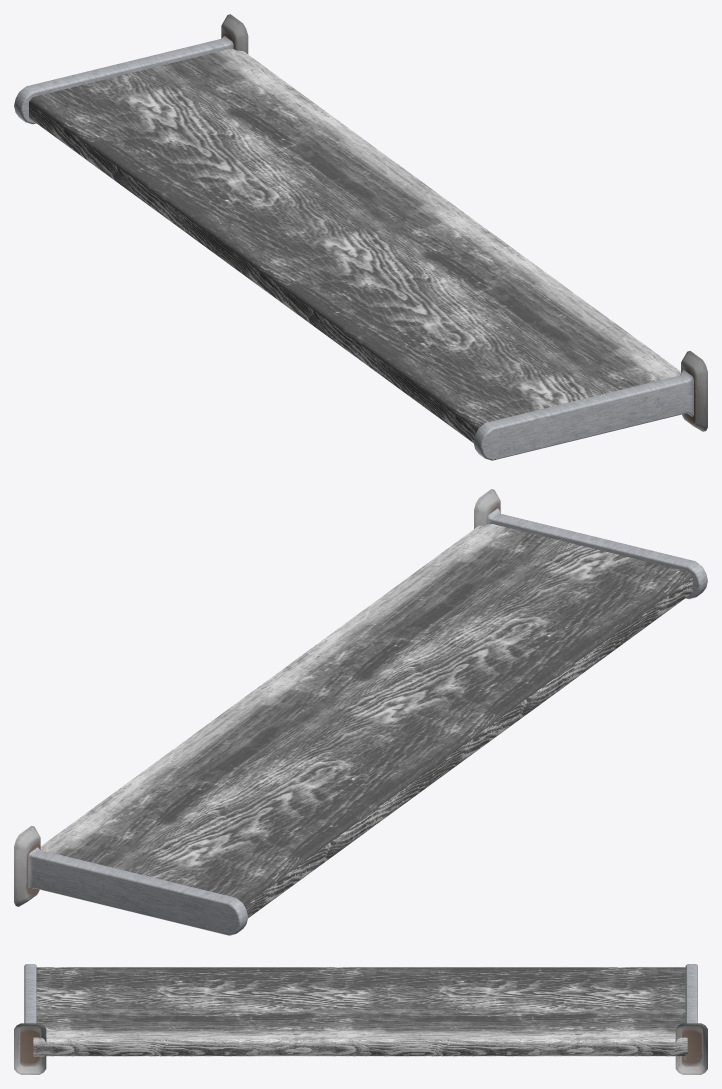
The model's file is SM_BathShelf_C1.fbx.
3 views of the same model, one above another, from view 1: azimuth 30°, elevation 25°; view 2: azimuth 150°, elevation 25°; view 3: azimuth 270°, elevation 25° (orthographic). The views are drawn at different scales.
Parts seen in each view (by area): view 1: SM_BathShelf_C1; view 2: SM_BathShelf_C1; view 3: SM_BathShelf_C1.
Boxes of the visible parts, x1,y1,x2,y2 form: SM_BathShelf_C1: (14,14,707,460); SM_BathShelf_C1: (14,489,707,935); SM_BathShelf_C1: (14,964,707,1074).
Size of the model in its own units: 28.38 by 108 by 8.86.
3 materials, 3 textured.
